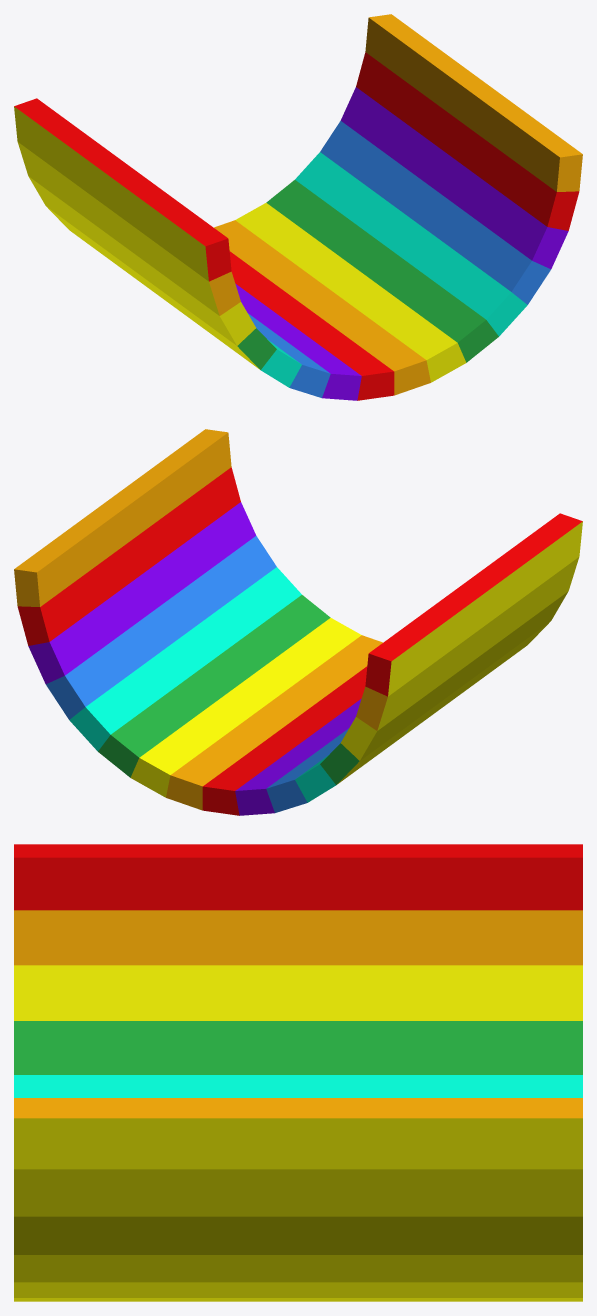
The model's file is CylinderHalf.fbx.
3 views of the same model, one above another, from view 1: azimuth 30°, elevation 25°; view 2: azimuth 150°, elevation 25°; view 3: azimuth 270°, elevation 25° (orthographic). The views are drawn at different scales.
Visible parts, largest first — view 1: CylinderHalf; view 2: CylinderHalf; view 3: CylinderHalf.
Boxes of the visible parts, x1=… form: CylinderHalf: x1=14, y1=14, x2=582, y2=400; CylinderHalf: x1=14, y1=429, x2=582, y2=815; CylinderHalf: x1=14, y1=844, x2=582, y2=1301.
Bounding box in the file's own units: 7.25 × 3.63 × 6.37.
